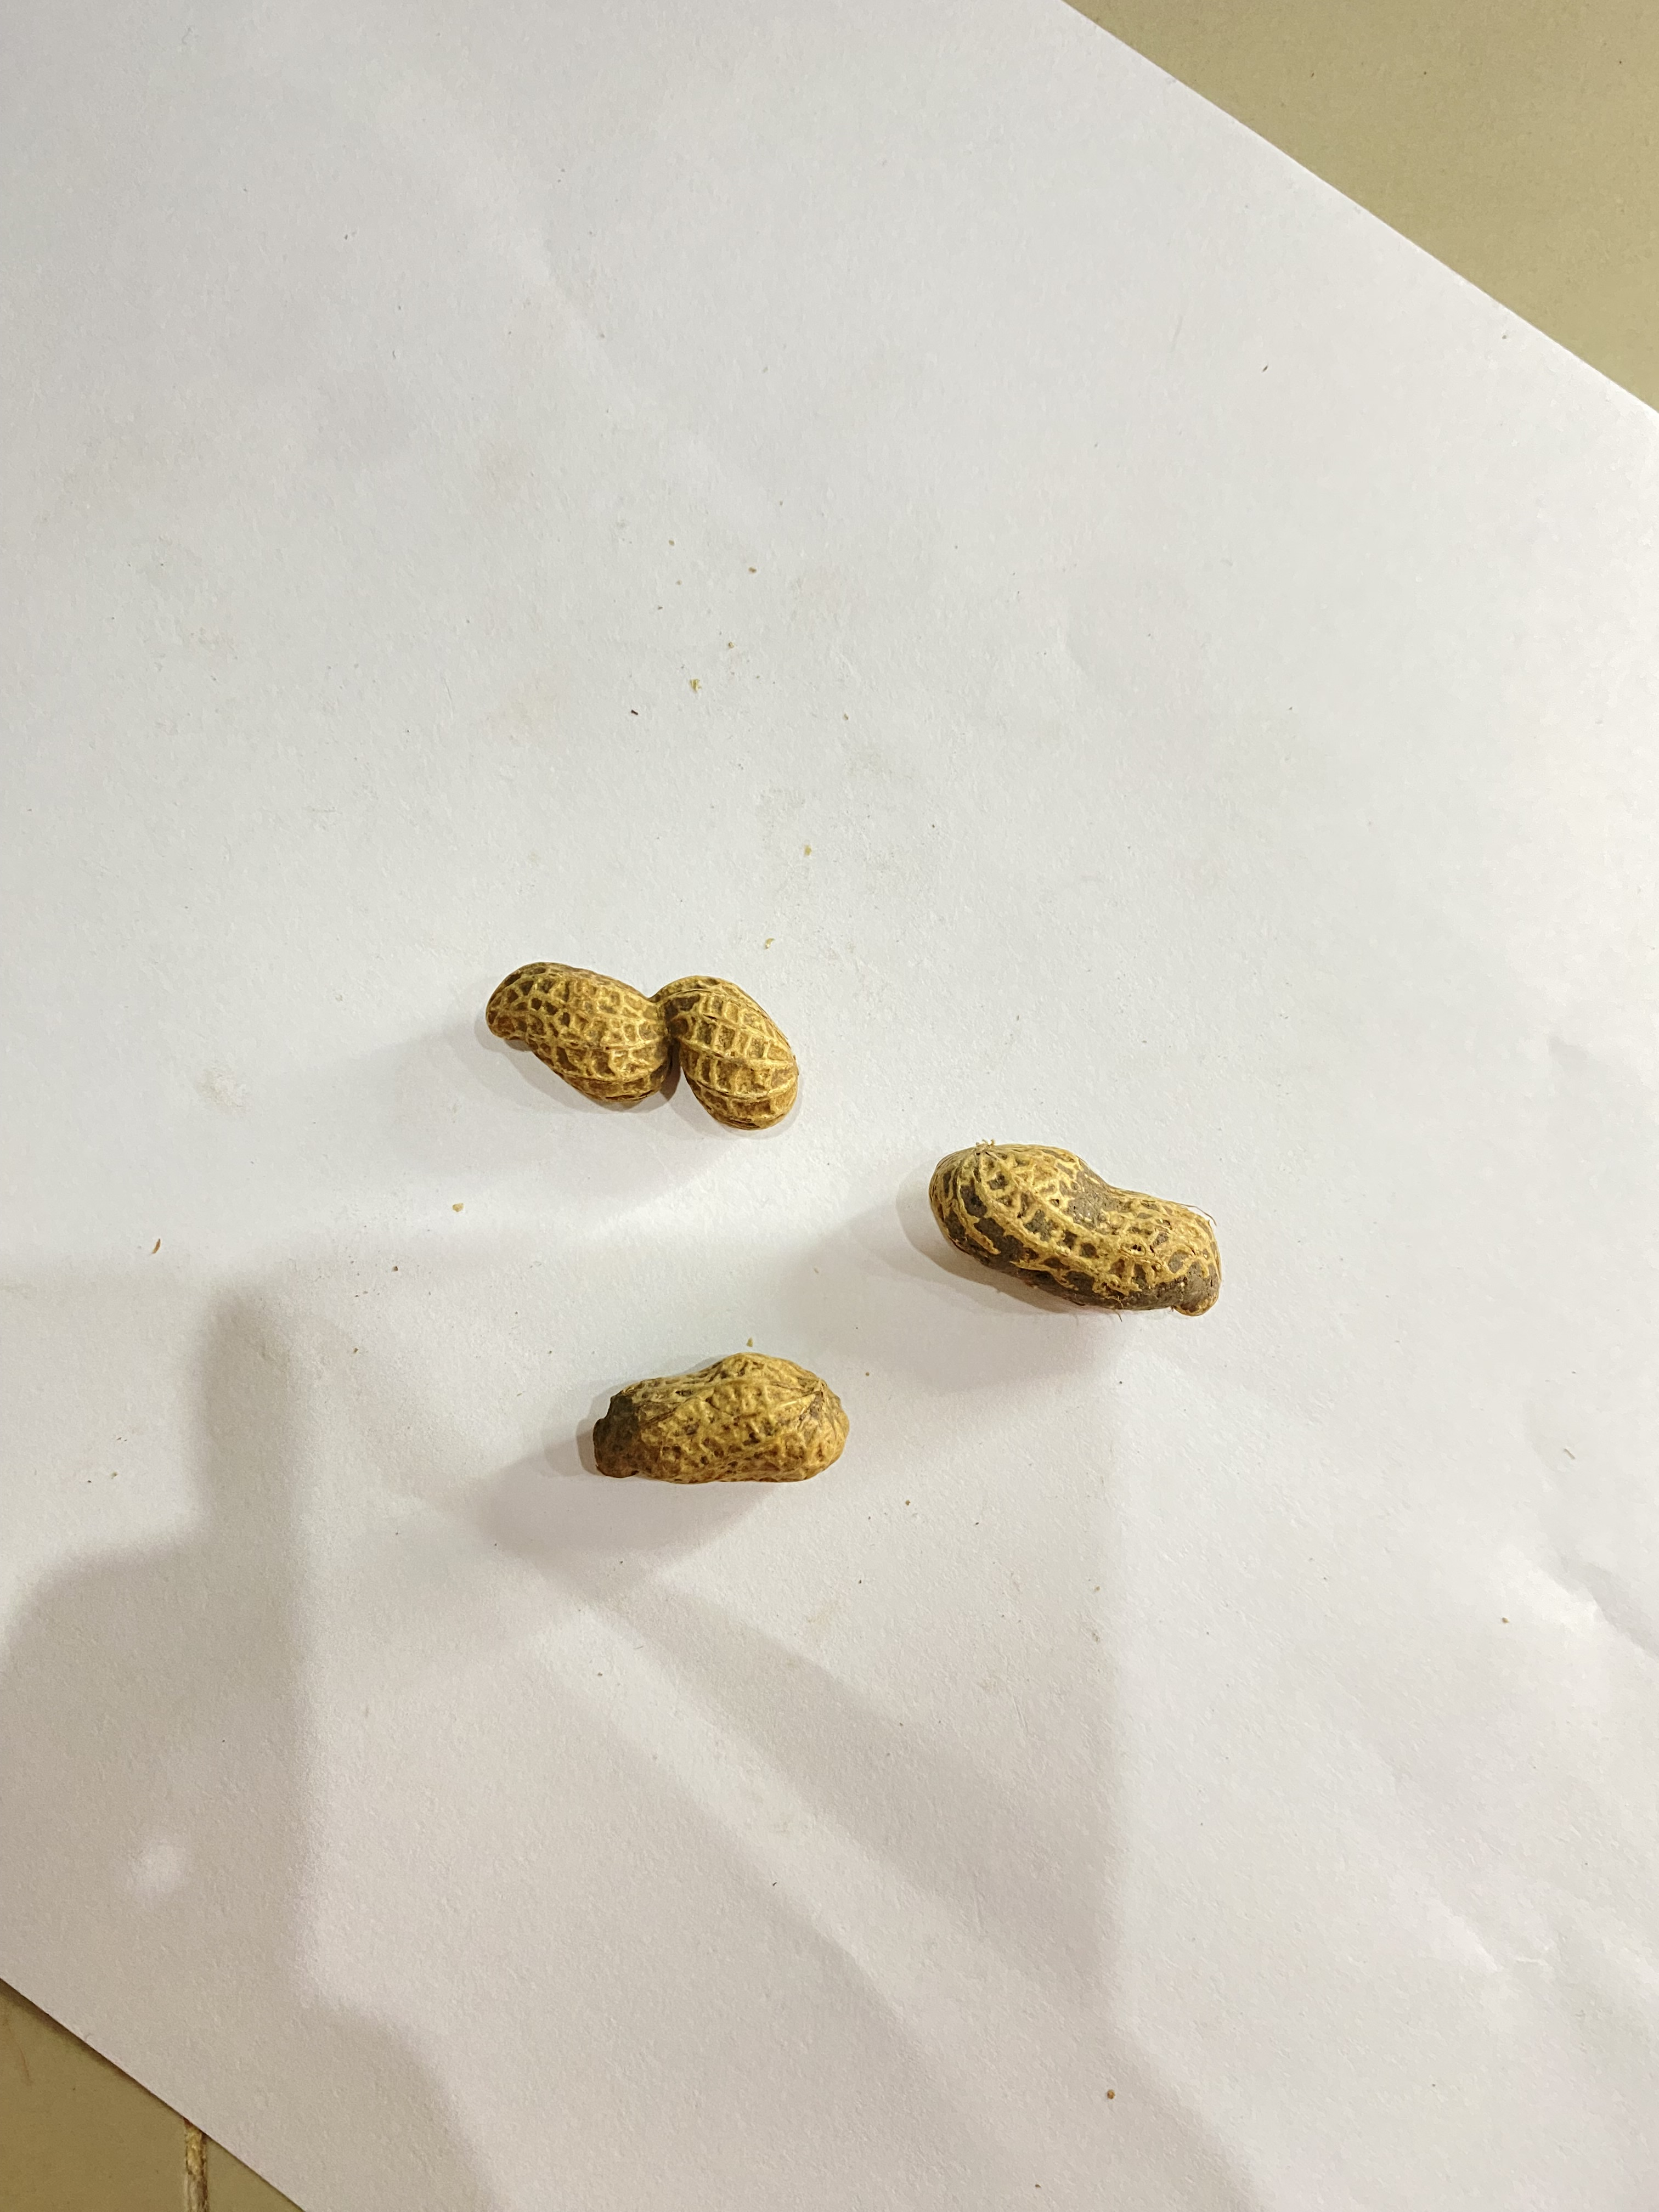kacang2: (453, 951, 838, 1137), (910, 1137, 1277, 1329), (559, 1345, 856, 1491)
